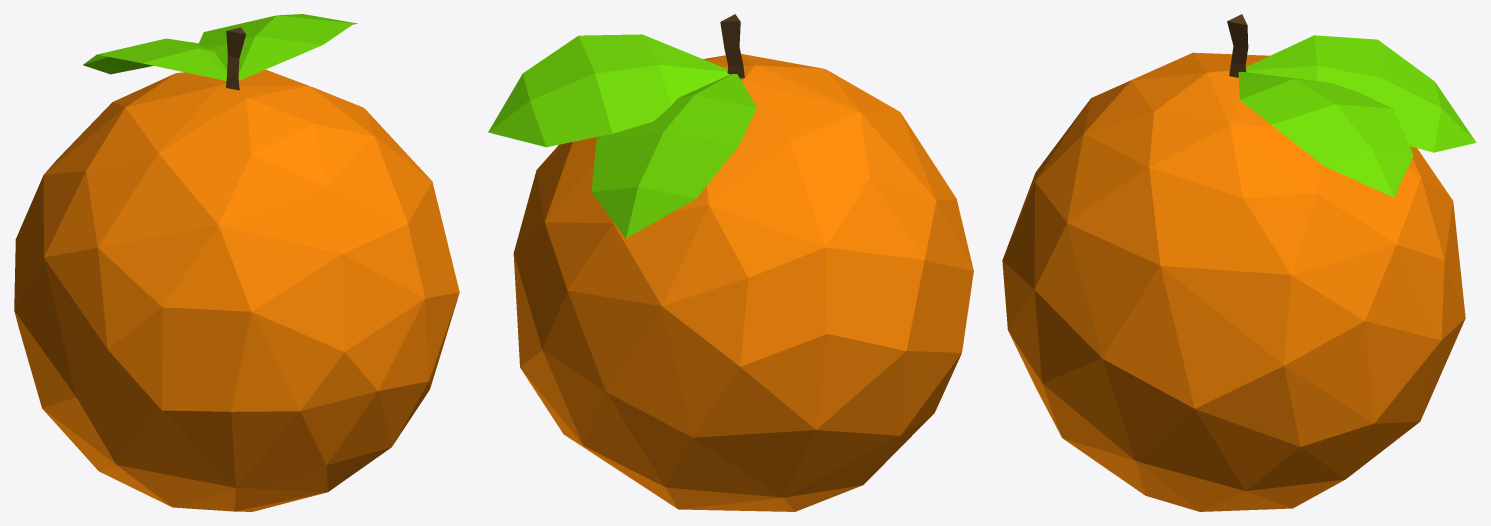
File: Orange.fbx
3 views of the same model, side by side, from view 1: azimuth 30°, elevation 25°; view 2: azimuth 150°, elevation 25°; view 3: azimuth 270°, elevation 25° (orthographic). The views are drawn at different scales.
Parts seen in each view (by area): view 1: Orange; view 2: Orange; view 3: Orange.
Part boxes in pixels (left/top/right/bottom): Orange: left=14, top=14, right=459, bottom=511; Orange: left=488, top=14, right=973, bottom=511; Orange: left=1002, top=14, right=1476, bottom=511.
Bounding box in the file's own units: 29.2 × 33.57 × 30.38.
